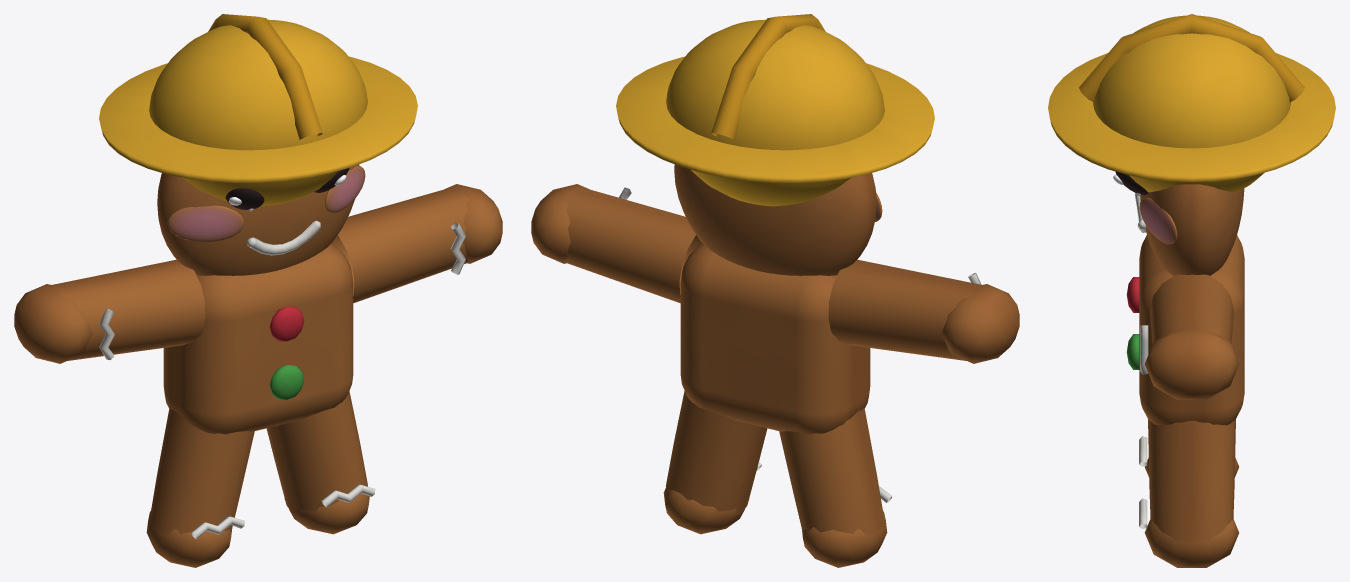
Rendered from folk_ginger.glb.
3 renders of one model, left to right at view 1: azimuth 30°, elevation 25°; view 2: azimuth 150°, elevation 25°; view 3: azimuth 270°, elevation 25°, orthographic. The views are drawn at different scales.
Visible parts, largest first — view 1: ginger_body, ginger_arm_l, ginger_arm_r, ginger_leg_l, ginger_leg_r, ginger_eye_l; view 2: ginger_body, ginger_arm_l, ginger_arm_r, ginger_leg_l, ginger_leg_r; view 3: ginger_body, ginger_leg_r, ginger_arm_r, ginger_eye_r.
Part boxes in pixels (<box>): ginger_body: <box>99,14,417,434</box>; ginger_arm_l: <box>14,259,205,363</box>; ginger_arm_r: <box>331,184,502,303</box>; ginger_leg_l: <box>146,408,254,567</box>; ginger_leg_r: <box>266,391,375,534</box>; ginger_eye_l: <box>225,188,264,211</box>; ginger_body: <box>616,14,934,434</box>; ginger_arm_l: <box>828,259,1019,363</box>; ginger_arm_r: <box>531,184,702,303</box>; ginger_leg_l: <box>779,408,892,567</box>; ginger_leg_r: <box>663,391,767,534</box>; ginger_body: <box>1048,14,1335,425</box>; ginger_leg_r: <box>1139,419,1239,567</box>; ginger_arm_r: <box>1140,274,1239,399</box>; ginger_eye_r: <box>1113,171,1148,195</box>.
Size of the model in its own units: 1.05 by 1.12 by 0.5664.
